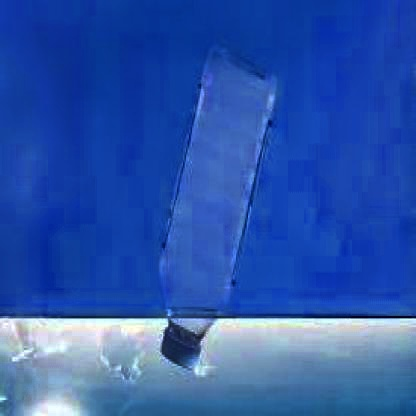pbottle: (142, 34, 282, 380)
